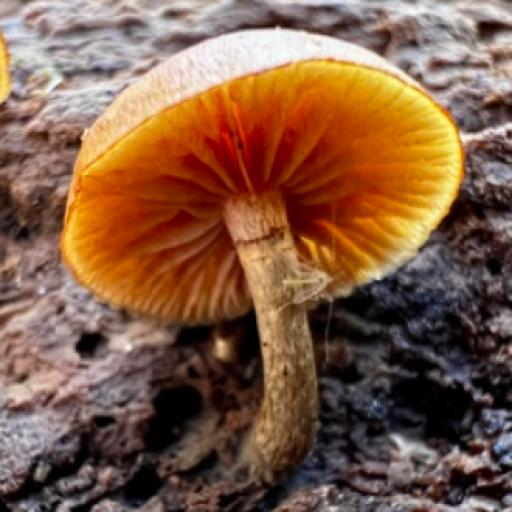Funeral Bell: (52, 23, 467, 481)
